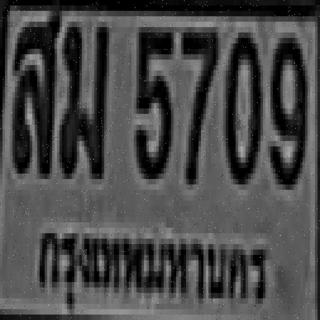A33: (57, 17, 106, 174)
A40: (10, 8, 60, 171)
N00: (224, 27, 259, 179)
N05: (134, 22, 171, 174)
N07: (179, 24, 216, 176)
N09: (268, 32, 305, 184)
P04: (26, 213, 278, 320)
